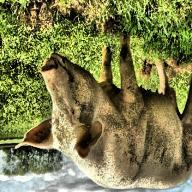boar: (14, 30, 191, 190)
